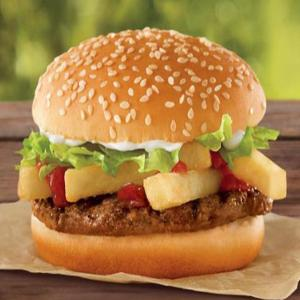cheeseburger: (24, 26, 286, 278)
